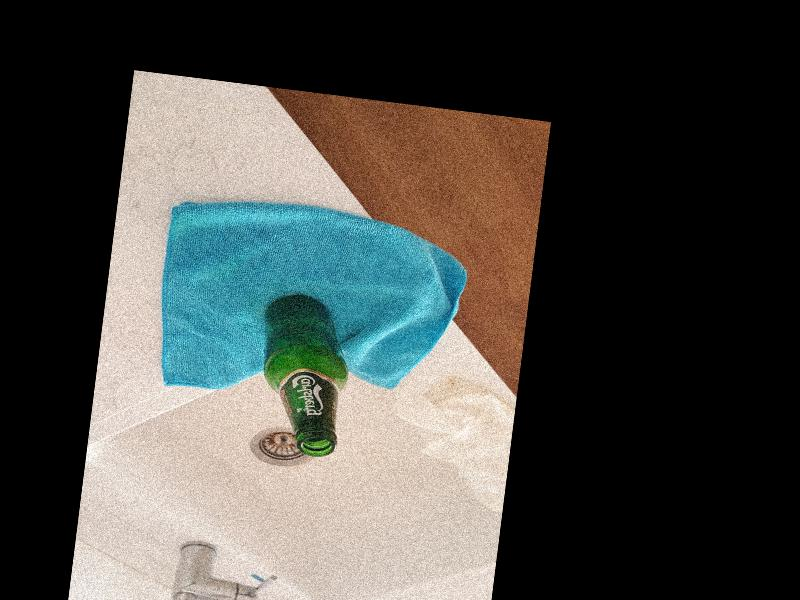Beer: (251, 289, 358, 457)
